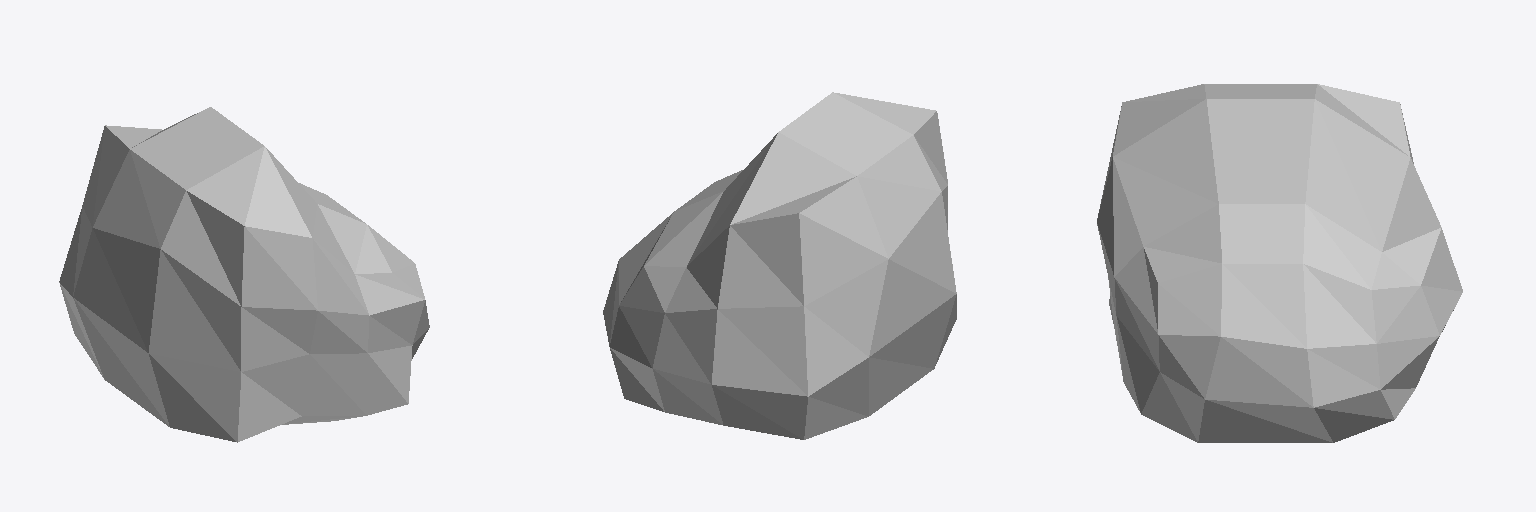
Rendered from Bowlder2.obj.
The picture shows the model from 3 angles: view 1: azimuth 30°, elevation 25°; view 2: azimuth 150°, elevation 25°; view 3: azimuth 270°, elevation 25°; orthographic projection.
Parts seen in each view (by area): view 1: Bowlder2; view 2: Bowlder2; view 3: Bowlder2.
Boxes of the visible parts, x1,y1,x2,y2 form: Bowlder2: [59, 107, 429, 442]; Bowlder2: [603, 92, 956, 439]; Bowlder2: [1097, 84, 1462, 442].
Size of the model in its own units: 1.84 by 1.7 by 1.97.